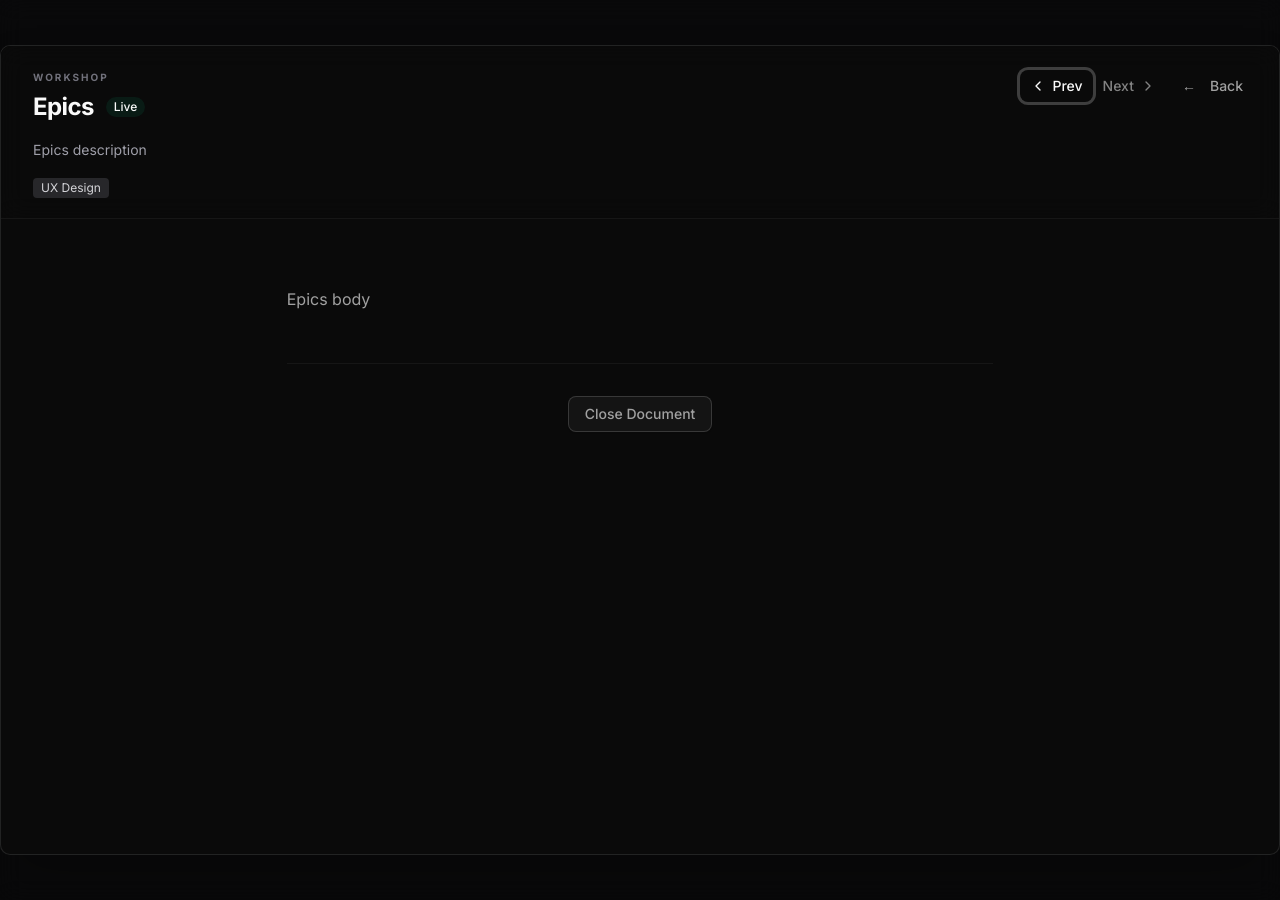
Test: MarkdownDocumentModal blueprint Prev/Next › disables Next on the last blueprint and walks backward
Expected: the button "Next" is disabled, x1=1093 y1=70 x2=1166 y2=102
Click the button "Prev": (1057, 86) x1=1020 y1=70 x2=1093 y2=102
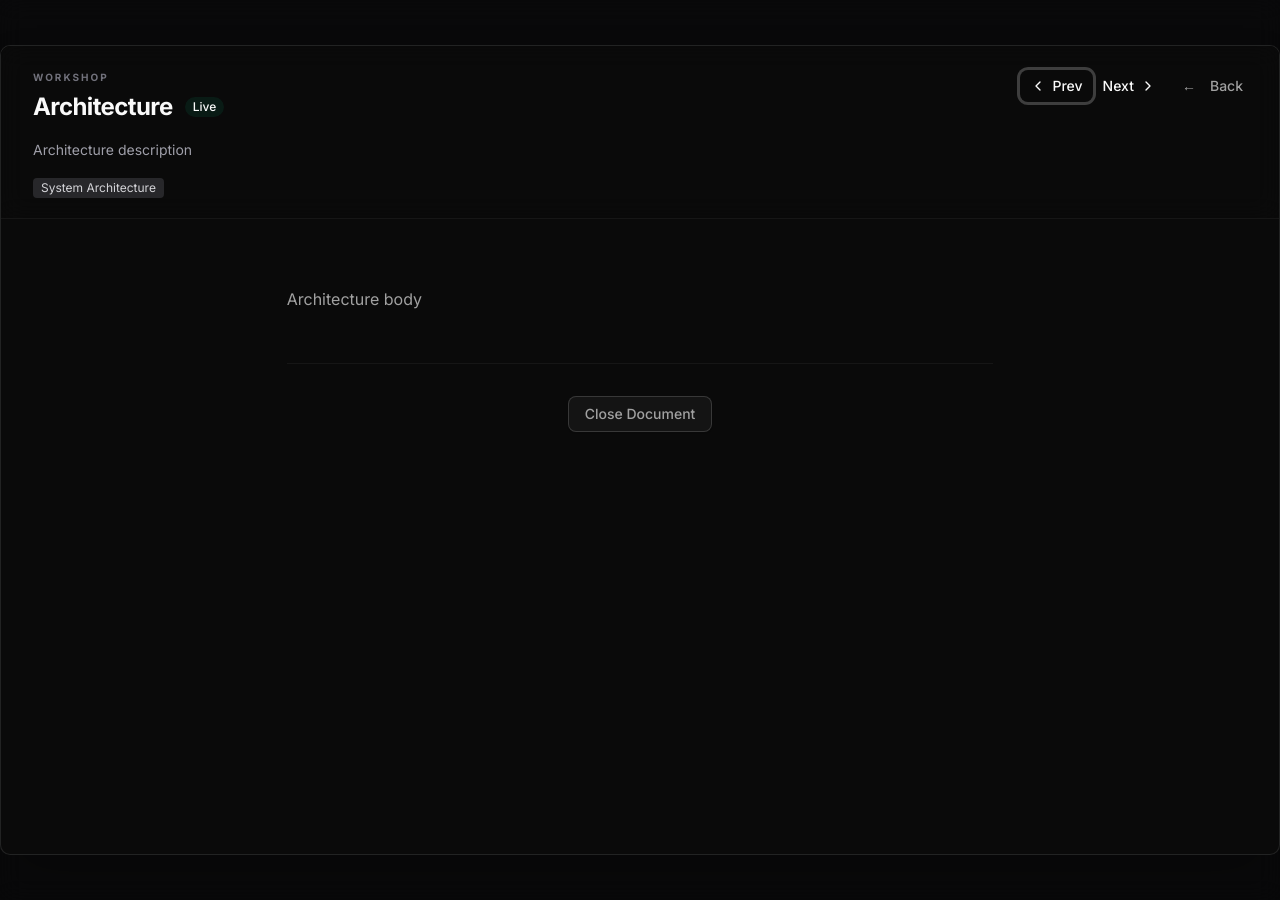
Now the text "Architecture body" is shown, box x1=287 y1=289 x2=422 y2=309
Now the button "Next" is enabled, box x1=1093 y1=70 x2=1166 y2=102
